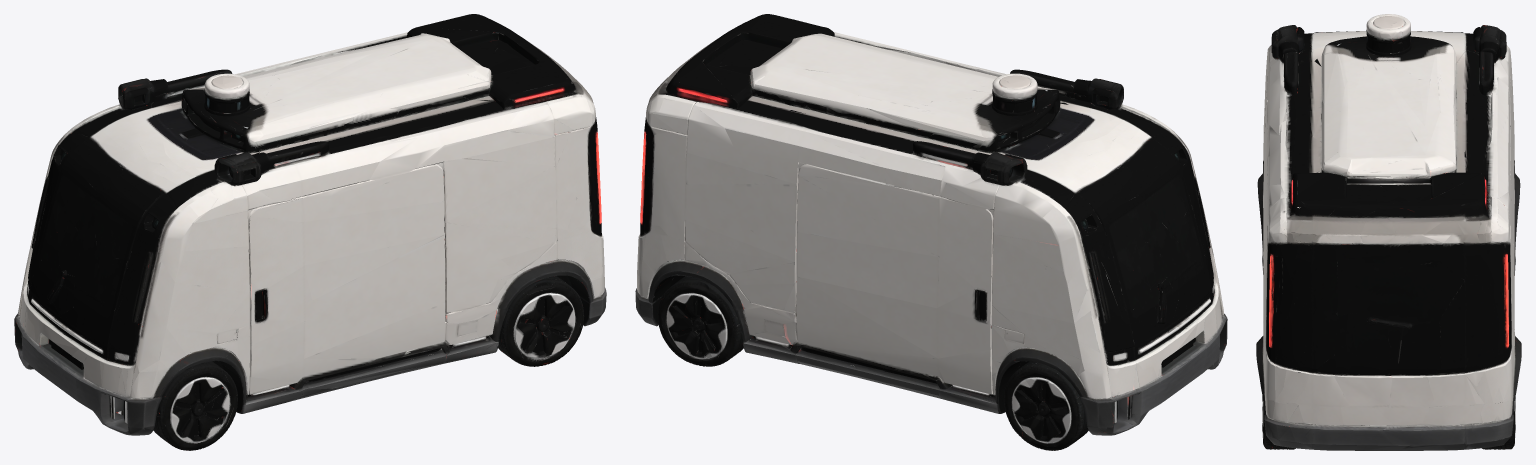
Rendered from prepared.glb.
3 views of the same model, side by side, from view 1: azimuth 30°, elevation 25°; view 2: azimuth 150°, elevation 25°; view 3: azimuth 270°, elevation 25° (orthographic).
Parts seen in each view (by area): view 1: output_unwrapped; view 2: output_unwrapped; view 3: output_unwrapped.
Boxes of the visible parts, x1,y1,x2,y2 form: output_unwrapped: (14, 14, 606, 450); output_unwrapped: (635, 14, 1227, 450); output_unwrapped: (1256, 14, 1521, 450).
Bounding box in the file's own units: 4.91 × 2.8 × 2.25.
1 material, 1 textured.
